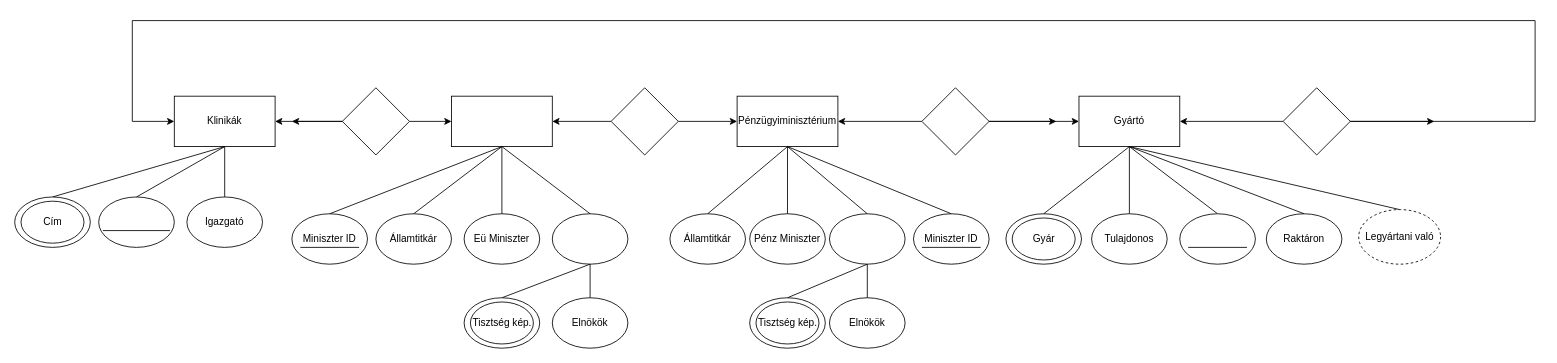
Some shapes in this 1557 by 363 pixel diagram are drawn without their labels. Each missing label, with the box of its shape:
Bizottság: (551, 213, 628, 264)
Bizottságok: (829, 213, 905, 264)
Cabineti gyülés: (610, 87, 678, 155)
Egészségügyi minisztérium: (451, 95, 552, 147)
Igazgató ID: (98, 196, 174, 247)
Kiszállítás: (1282, 87, 1350, 155)
Kérelem: (341, 87, 410, 155)
Rendelés: (921, 87, 989, 155)
Termék ID: (1179, 213, 1255, 264)
